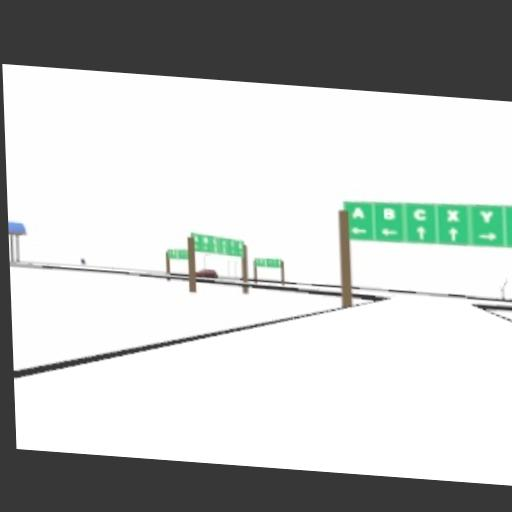A: (351, 205, 365, 219)
B: (382, 205, 396, 220)
C: (413, 207, 426, 220)
Left: (379, 225, 398, 237), (350, 225, 367, 235)
Right: (477, 230, 498, 241)
Straight: (448, 226, 459, 242), (416, 224, 427, 239)
X: (447, 209, 459, 221)
Y: (479, 209, 494, 222)
